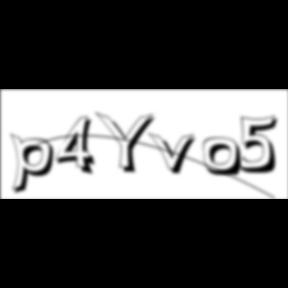4: (56, 115, 102, 179)
5: (238, 114, 284, 176)
Y: (94, 110, 162, 176)
o: (203, 137, 245, 179)
p: (10, 132, 60, 198)
v: (149, 131, 203, 177)
